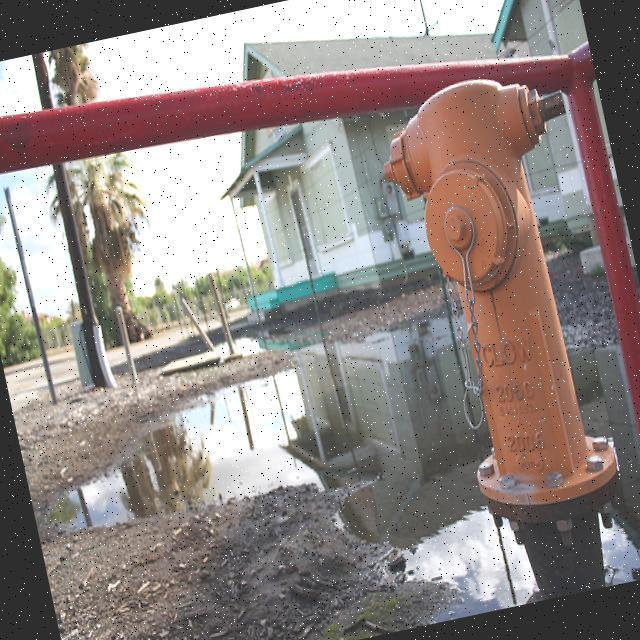fire_hydrant: (366, 59, 640, 614)
